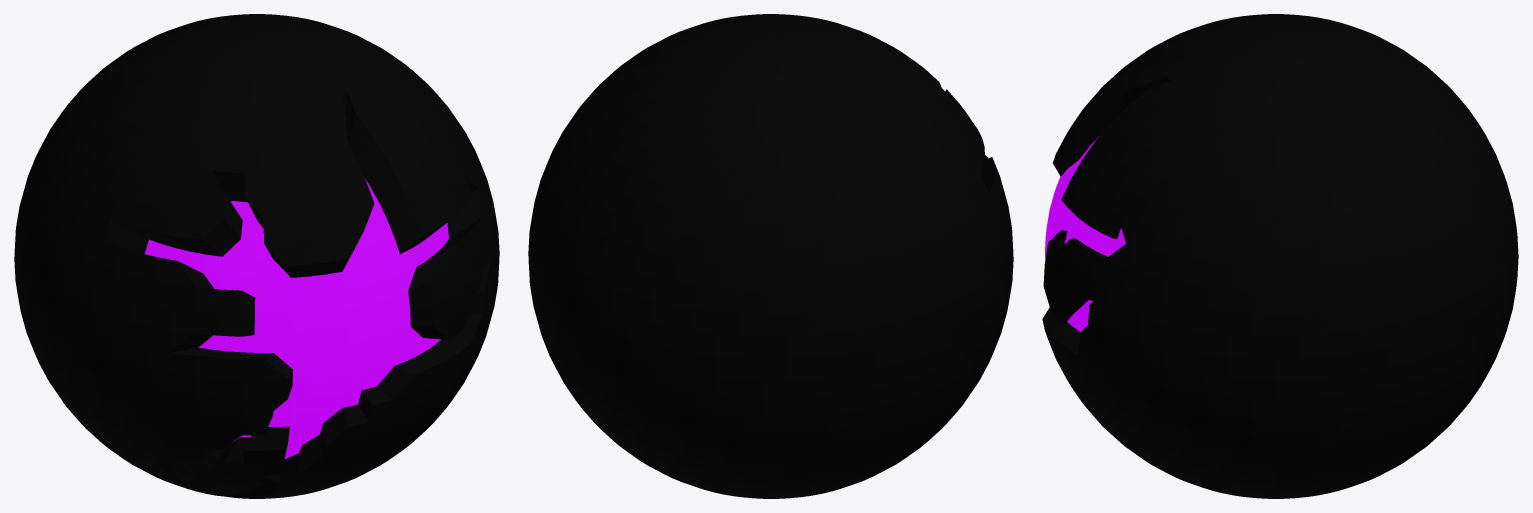
File: pinball_degreate_core.gltf
3 views of the same model, side by side, from view 1: azimuth 30°, elevation 25°; view 2: azimuth 150°, elevation 25°; view 3: azimuth 270°, elevation 25° (orthographic).
Visible parts, largest first — view 1: 球; view 2: 球; view 3: 球.
Boxes of the visible parts, bbox=[...] form: 球: bbox=[14, 14, 499, 498]; 球: bbox=[528, 14, 1013, 498]; 球: bbox=[1042, 14, 1518, 498].
Size of the model in its own units: 0.1 by 0.1 by 0.0981.
